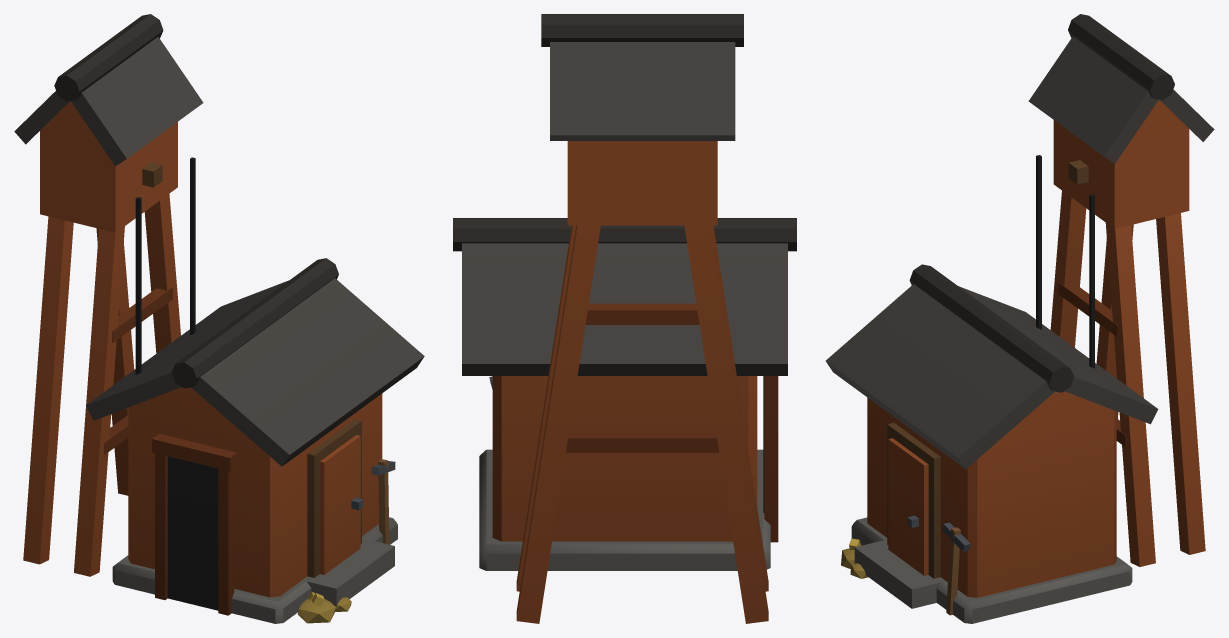
File: building_15.glb
3 renders of one model, left to right at view 1: azimuth 30°, elevation 25°; view 2: azimuth 150°, elevation 25°; view 3: azimuth 270°, elevation 25°, orthographic. The views are drawn at different scales.
Parts seen in each view (by area): view 1: building_15; view 2: building_15; view 3: building_15.
Boxes of the visible parts, left/top/right/bottom form: building_15: left=14, top=14, right=424, bottom=623; building_15: left=453, top=14, right=796, bottom=623; building_15: left=825, top=14, right=1214, bottom=623.
Size of the model in its own units: 0.5184 by 0.754 by 0.5423.
